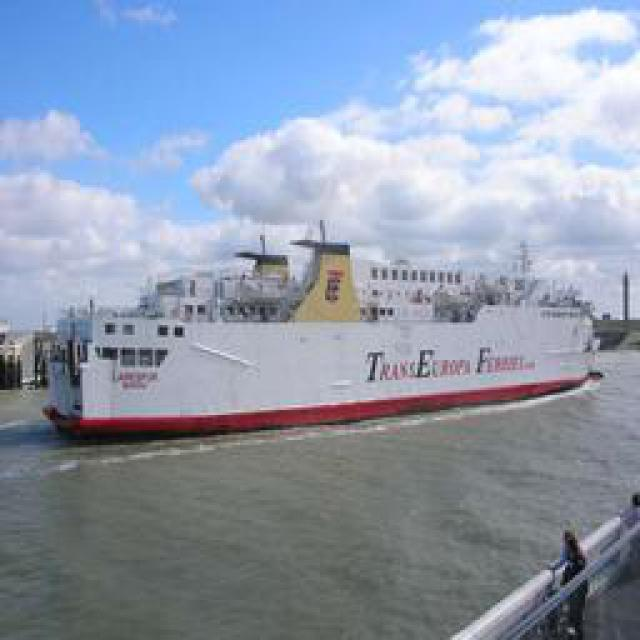Ship: (39, 243, 609, 441)
